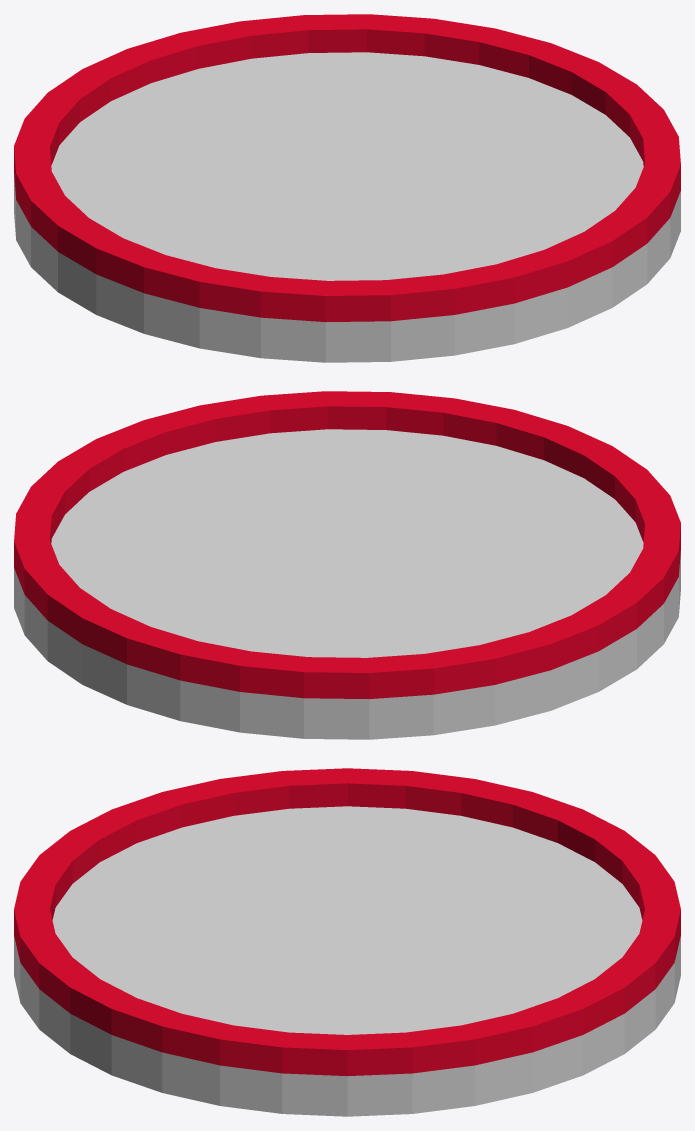
The model's file is Cylinde.fbx.
The picture shows the model from 3 angles, top to bottom: view 1: azimuth 30°, elevation 25°; view 2: azimuth 150°, elevation 25°; view 3: azimuth 270°, elevation 25°; orthographic projection.
Visible parts, largest first — view 1: Cylinder; view 2: Cylinder; view 3: Cylinder.
Part boxes in pixels (box(x1,y1,x2,y2)): Cylinder: box(14, 14, 680, 362); Cylinder: box(14, 391, 680, 739); Cylinder: box(14, 768, 680, 1116).
Size of the model in its own units: 200 by 22.02 by 200.
